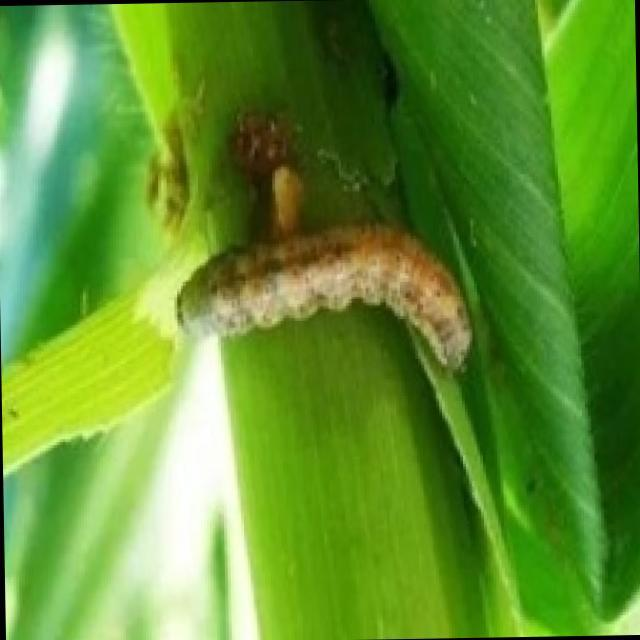Plaga: (159, 216, 482, 393)
